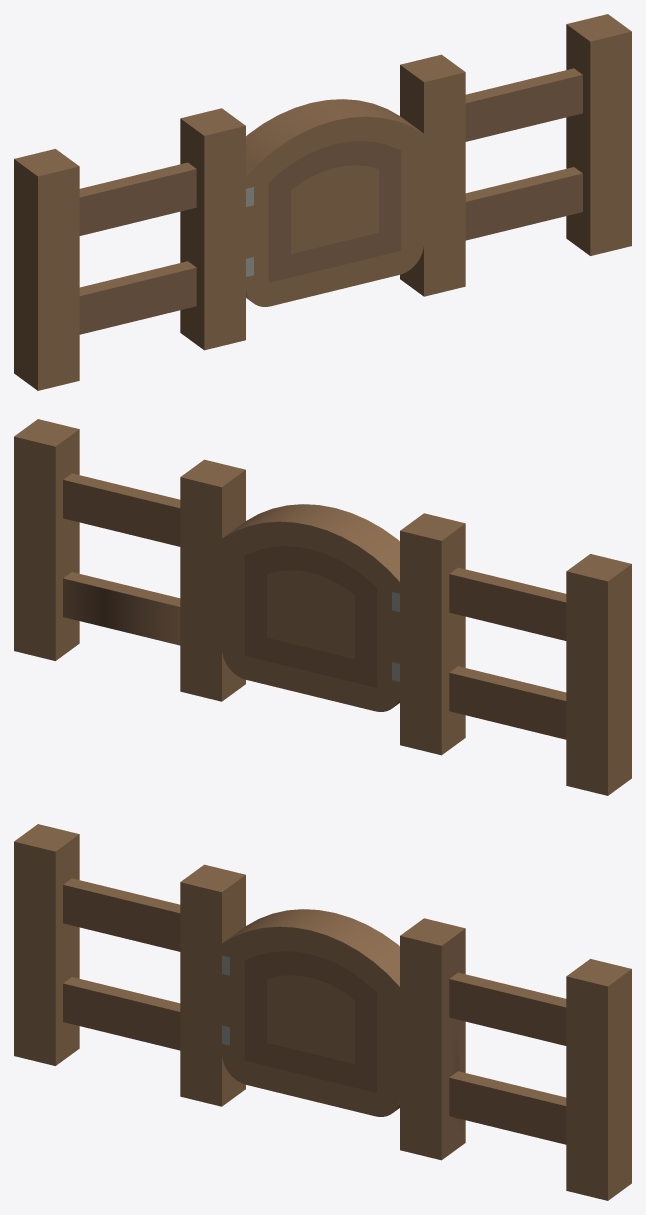
File: fence_gate.glb
The picture shows the model from 3 angles, top to bottom: view 1: azimuth 30°, elevation 25°; view 2: azimuth 150°, elevation 25°; view 3: azimuth 330°, elevation 25°; orthographic projection.
Visible parts, largest first — view 1: fence_gate, gate; view 2: fence_gate, gate; view 3: fence_gate, gate.
Part boxes in pixels (x1=…): fence_gate: x1=14, y1=14, x2=631, y2=390; gate: x1=246, y1=99, x2=423, y2=306; fence_gate: x1=14, y1=419, x2=631, y2=795; gate: x1=222, y1=504, x2=399, y2=711; fence_gate: x1=14, y1=824, x2=631, y2=1200; gate: x1=222, y1=909, x2=399, y2=1116.
Bounding box in the file's own units: 1 × 0.345 × 0.07.
